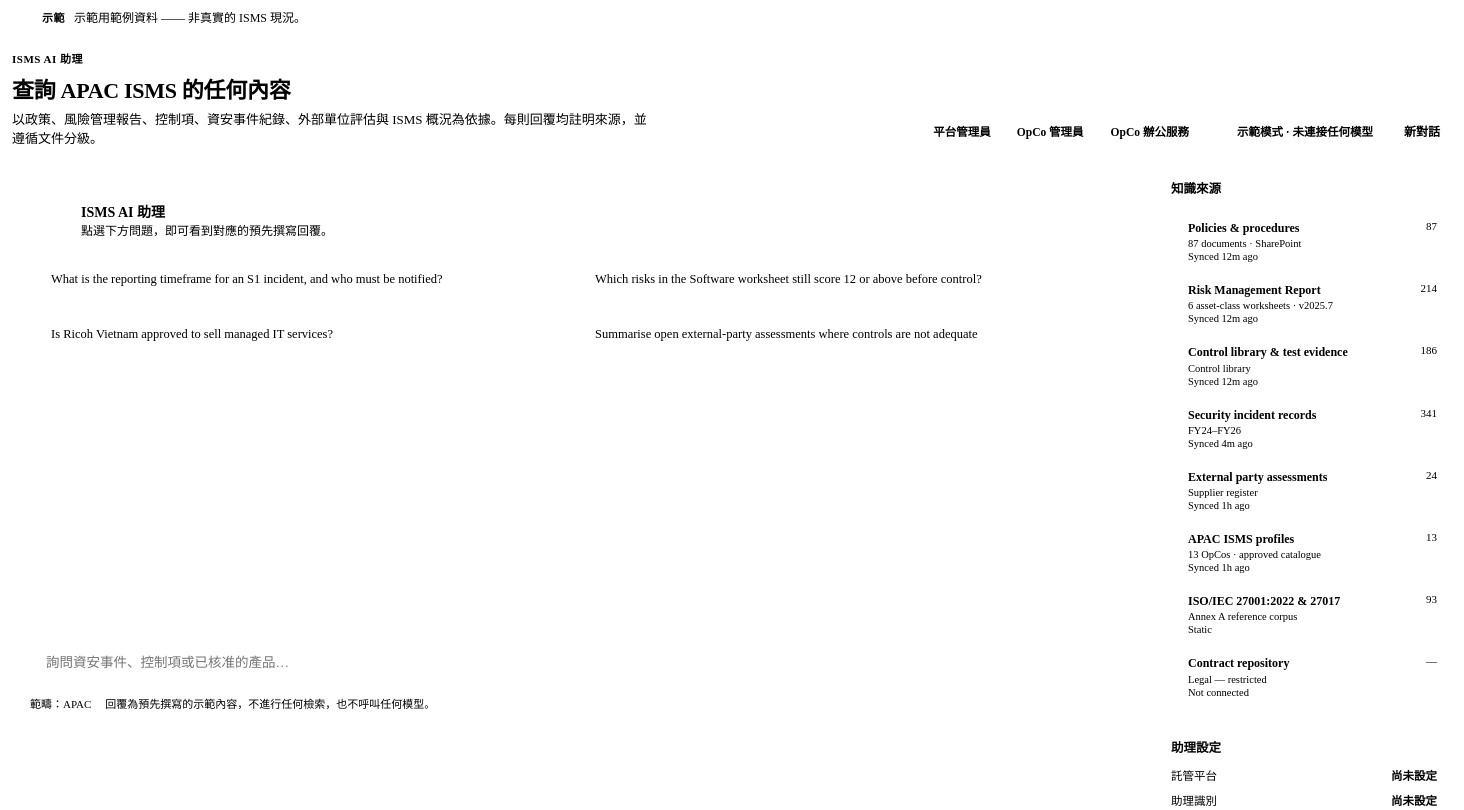
Test: ai assistant — suggested prompts render fixture answers › Which risks in the Software worksheet still score 12 or above before control? resolves to an answer with sources
This screenshot has width=1464, height=810.
Click the button "Which risks in the Software worksheet still score 12 or above before control?". click: (847, 279)
box: [580, 257, 1114, 302]
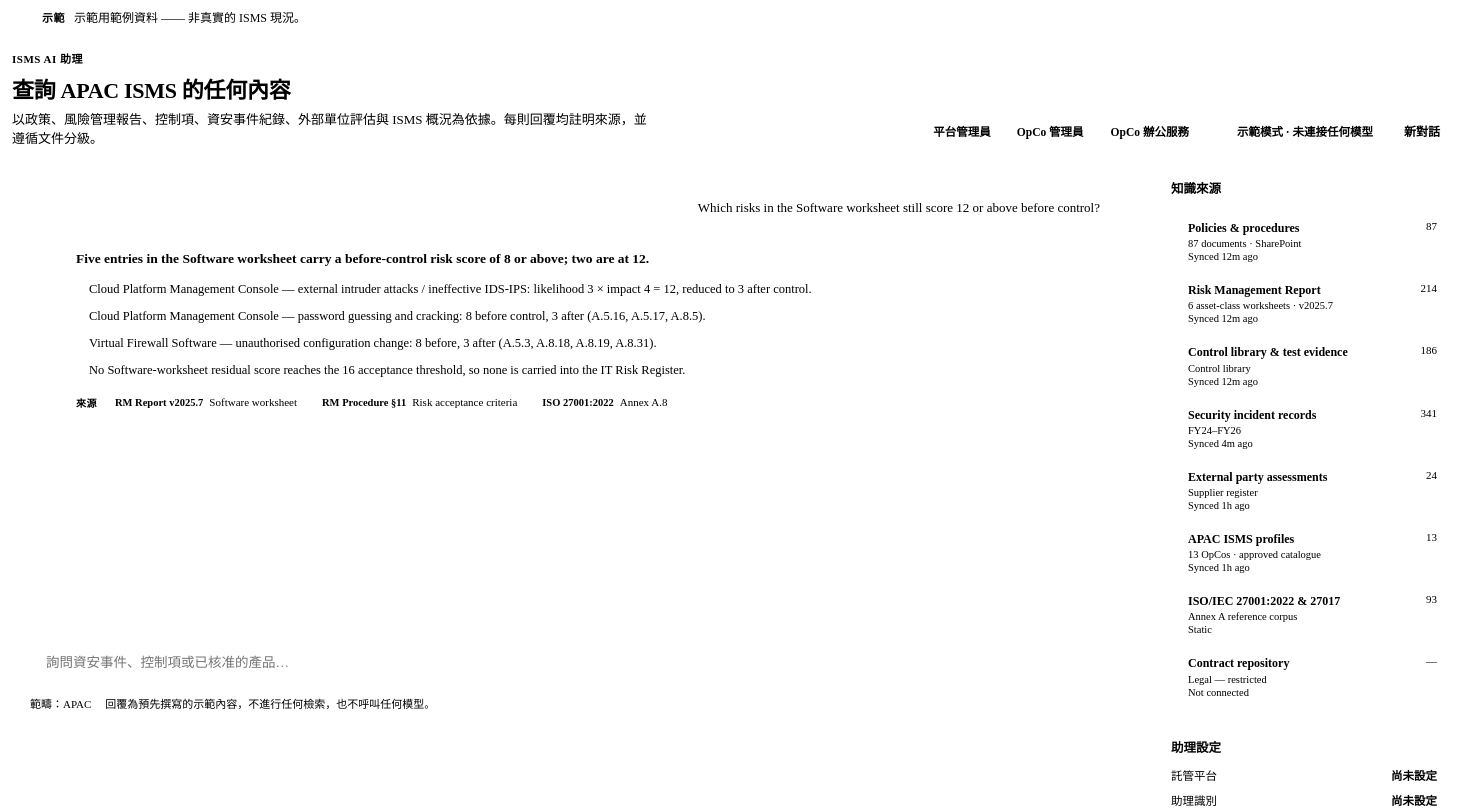
Expected: the text "Which risks in the Software worksheet still score 12 or above before control?" is shown, [698, 200, 1100, 215]
Now the text "來源" is shown, box [76, 395, 97, 410]
